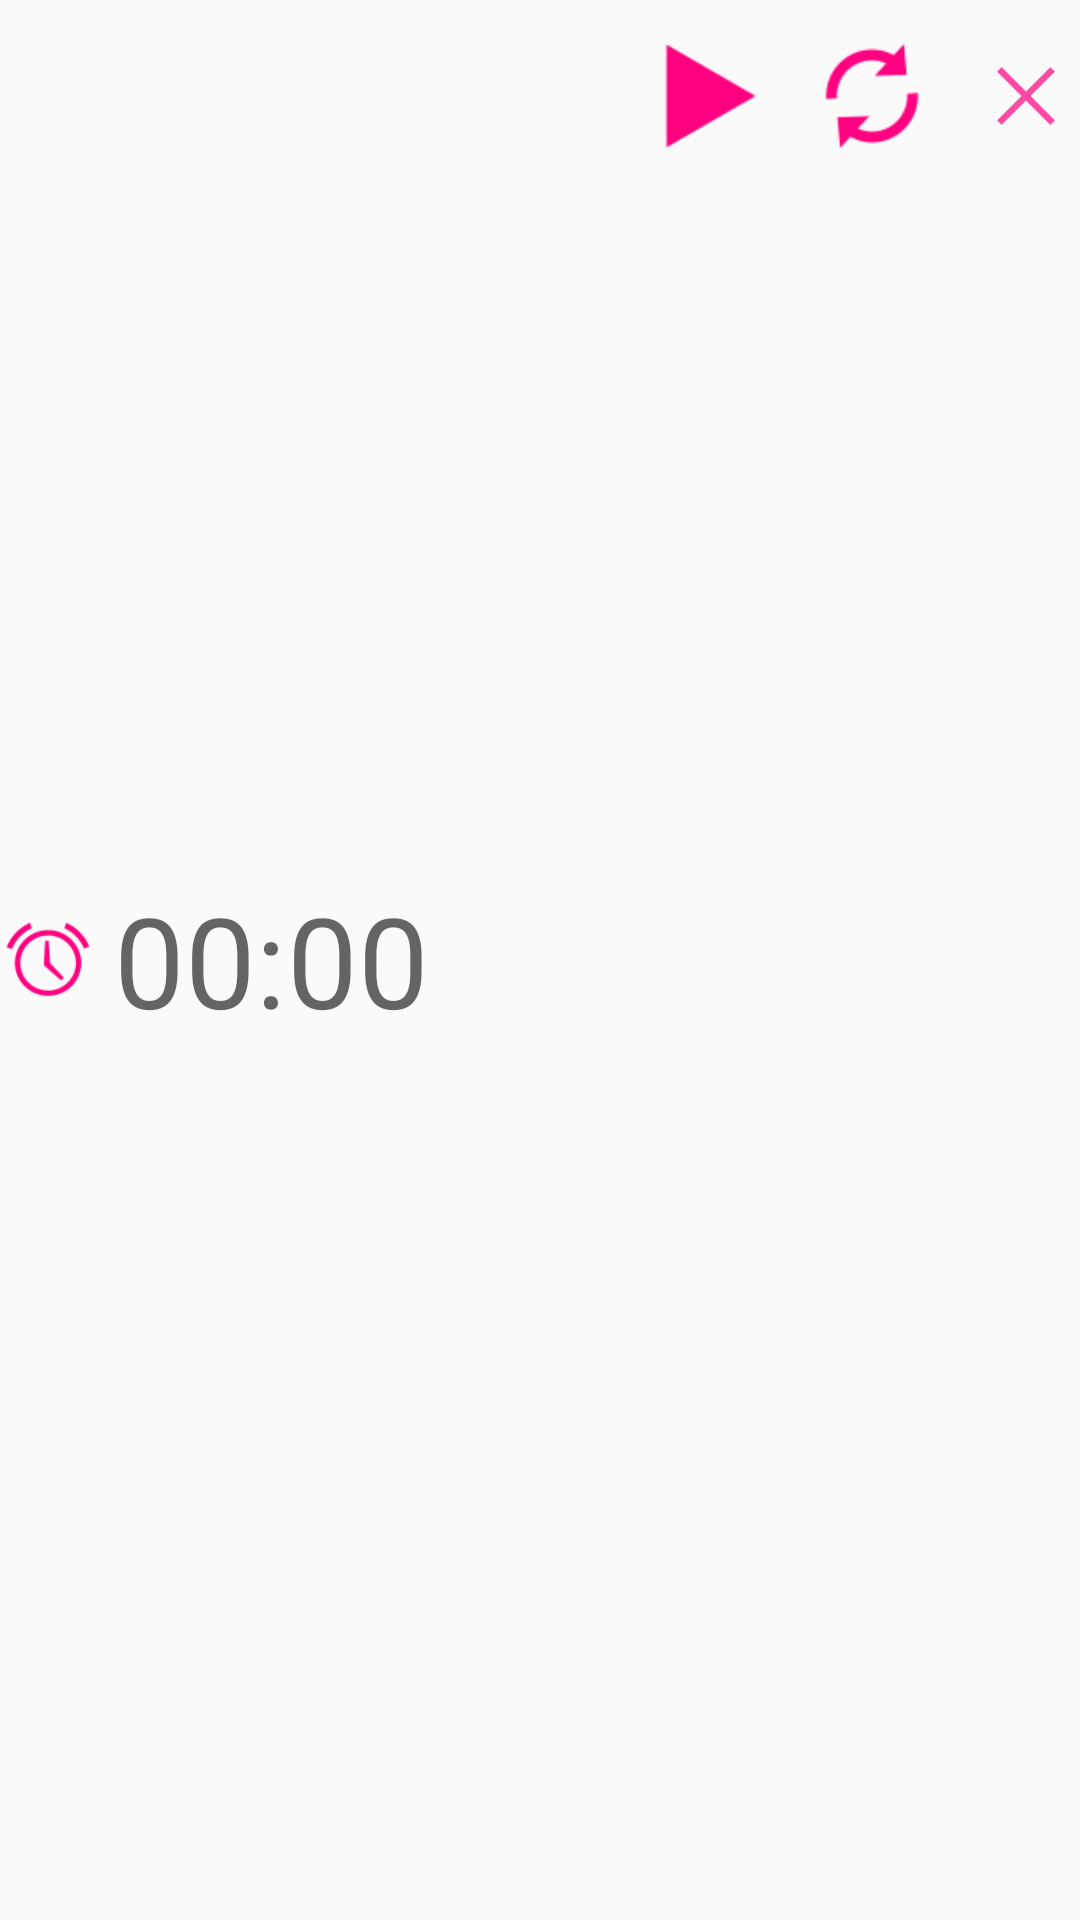

Icons on this 1080×1920 Android screen, each with the point to tap as (x=x, y=y):
exit: (x=1026, y=96)
reset: (x=872, y=96)
start: (x=710, y=96)
